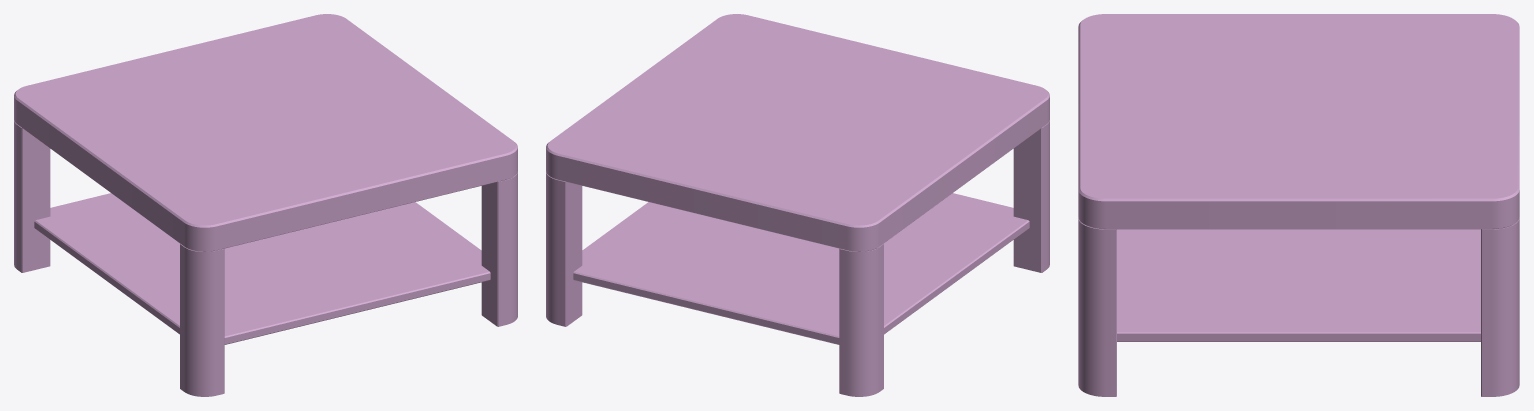
Rendered from Table_default.fbx.
3 renders of one model, left to right at view 1: azimuth 30°, elevation 25°; view 2: azimuth 150°, elevation 25°; view 3: azimuth 270°, elevation 25°, orthographic. The views are drawn at different scales.
Parts seen in each view (by area): view 1: Tabletop_006, Shelf_006, Legs_006; view 2: Tabletop_006, Shelf_006, Legs_006; view 3: Tabletop_006, Shelf_006, Legs_006.
Boxes of the visible parts, x1=… form: Tabletop_006: x1=14, y1=14, x2=517, y2=251; Shelf_006: x1=34, y1=193, x2=490, y2=344; Legs_006: x1=14, y1=120, x2=517, y2=396; Tabletop_006: x1=546, y1=14, x2=1049, y2=251; Shelf_006: x1=573, y1=193, x2=1029, y2=344; Legs_006: x1=546, y1=120, x2=1049, y2=396; Tabletop_006: x1=1078, y1=14, x2=1519, y2=229; Shelf_006: x1=1117, y1=229, x2=1480, y2=341; Legs_006: x1=1078, y1=218, x2=1519, y2=396.
Bounding box in the file's own units: 80 × 40 × 80.
